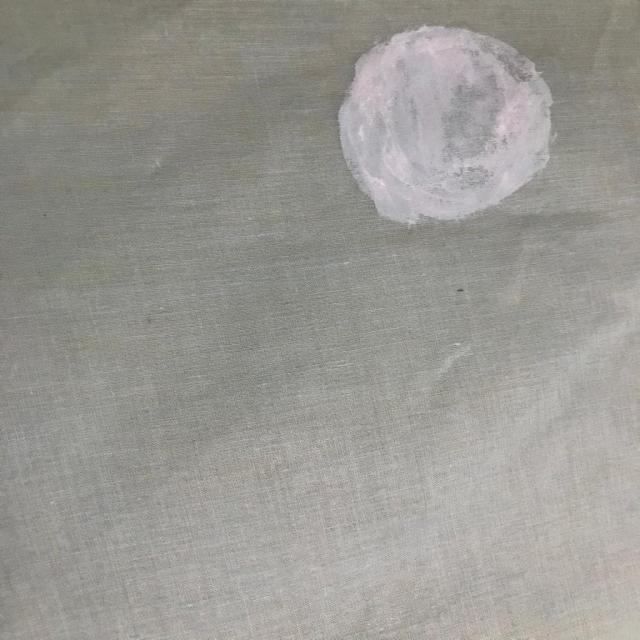Stain: (340, 26, 552, 223)
